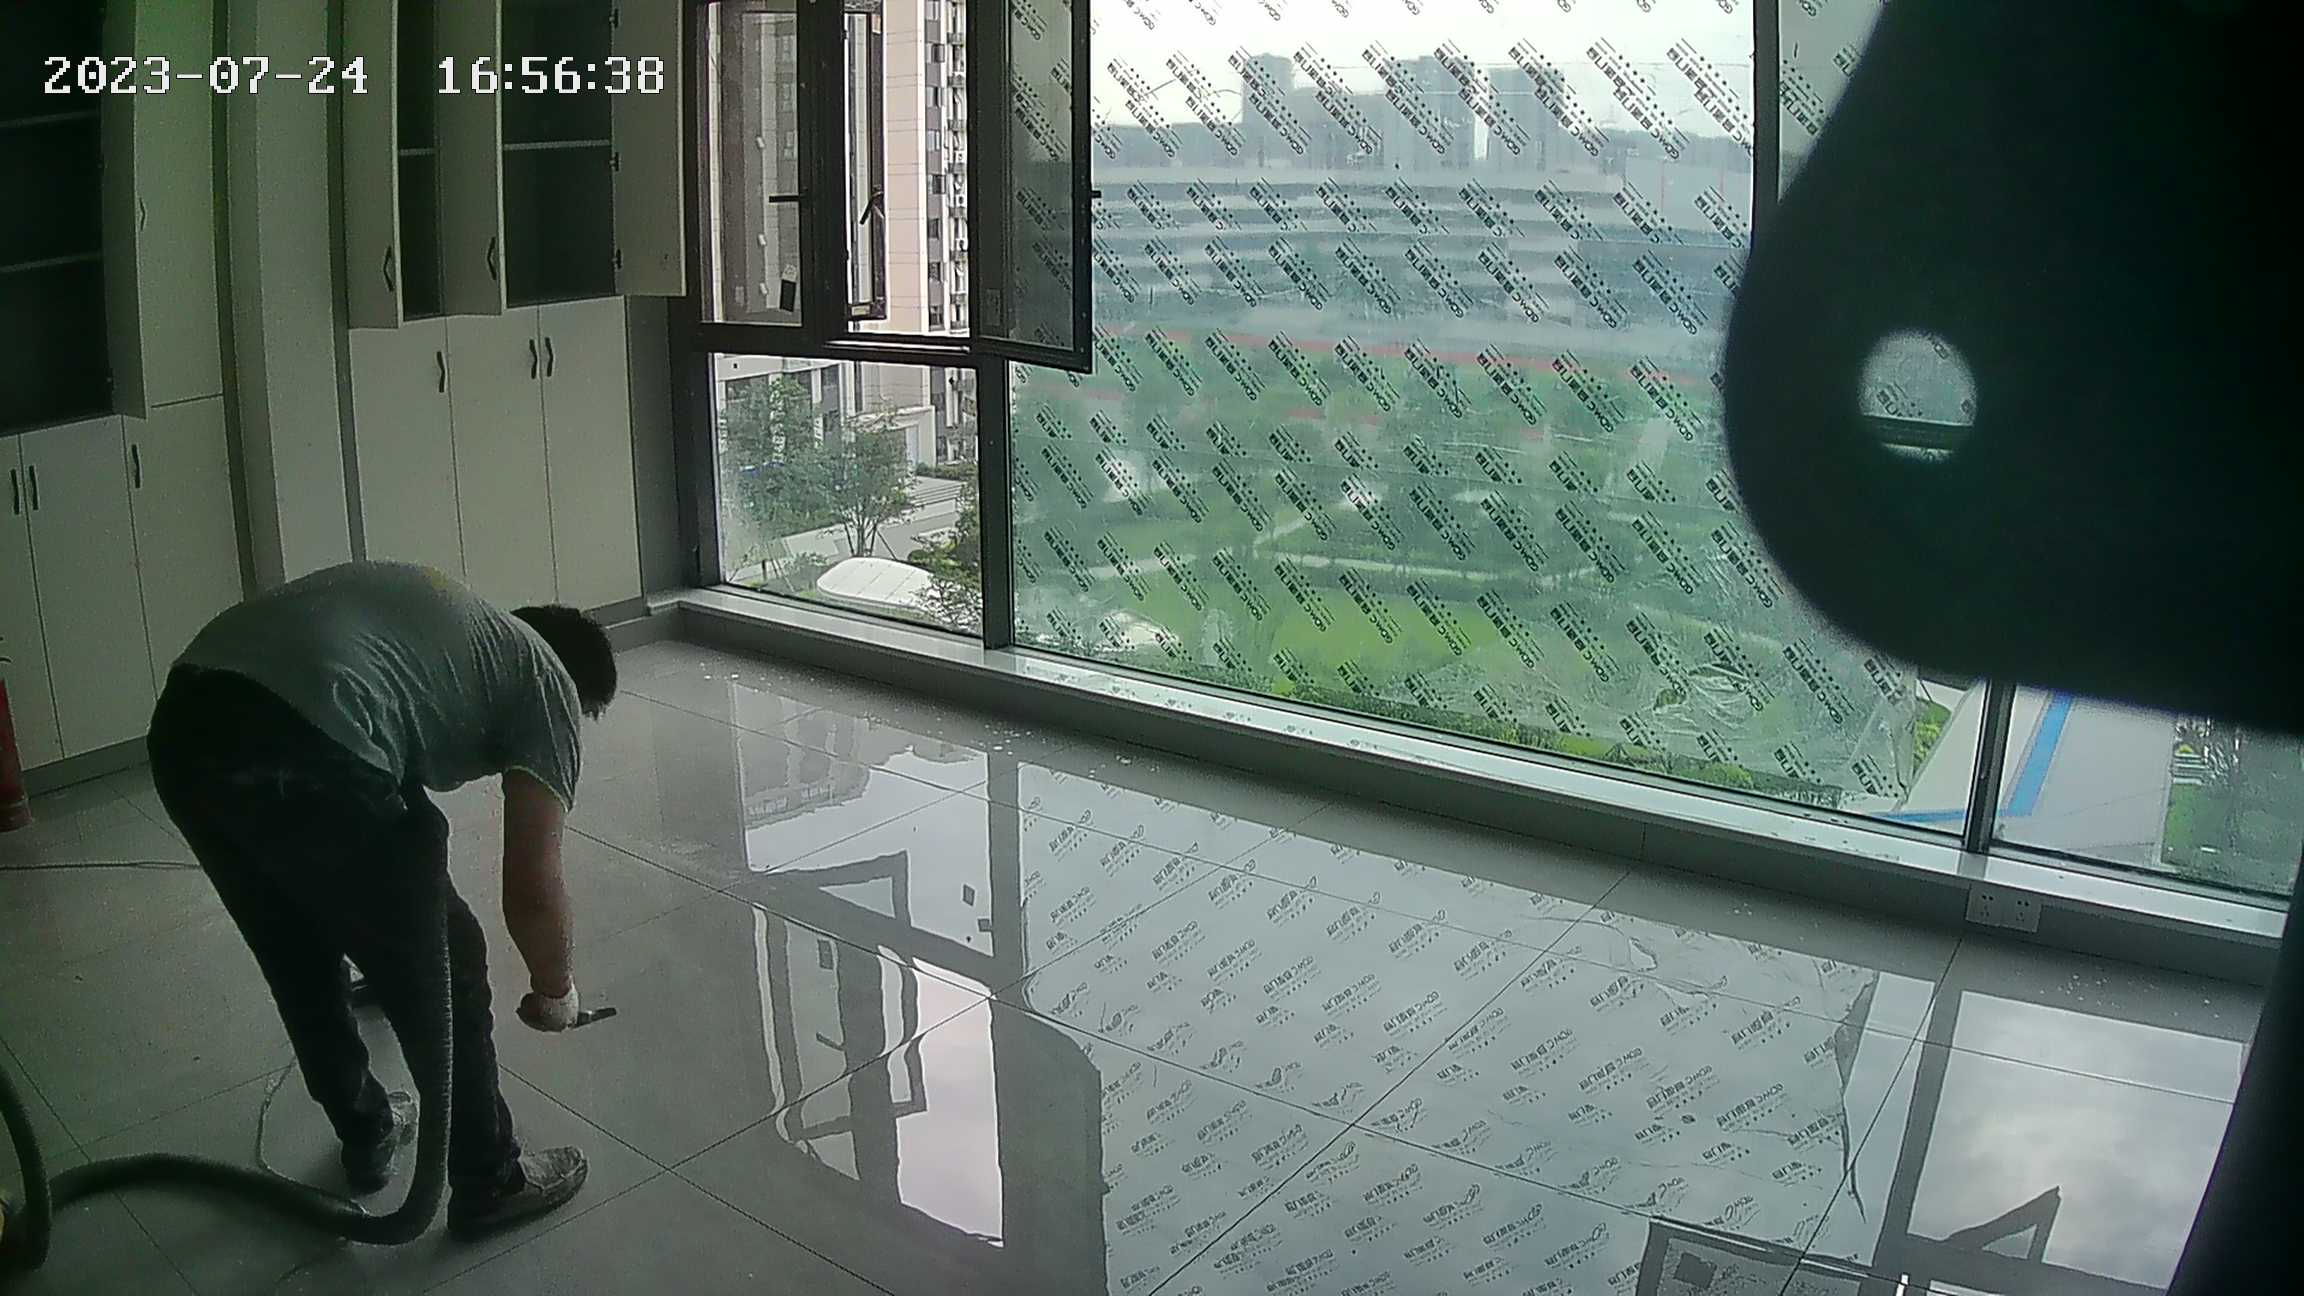people: (121, 536, 654, 1246)
window: (692, 1, 2070, 719)
